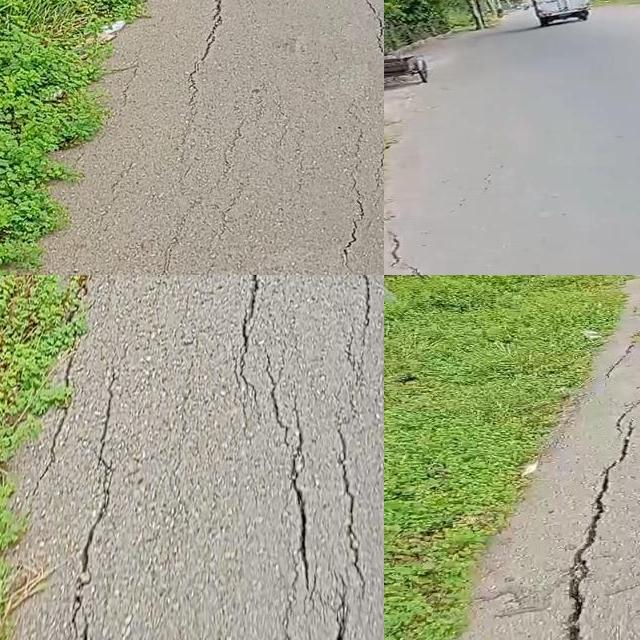Memanjang: (552, 364, 640, 640), (58, 389, 127, 640), (258, 390, 322, 588), (322, 161, 383, 275), (221, 275, 266, 392), (180, 0, 228, 98), (358, 275, 384, 344)
